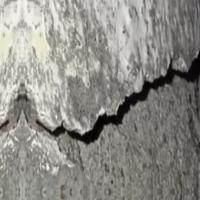crack: (0, 52, 199, 156)
